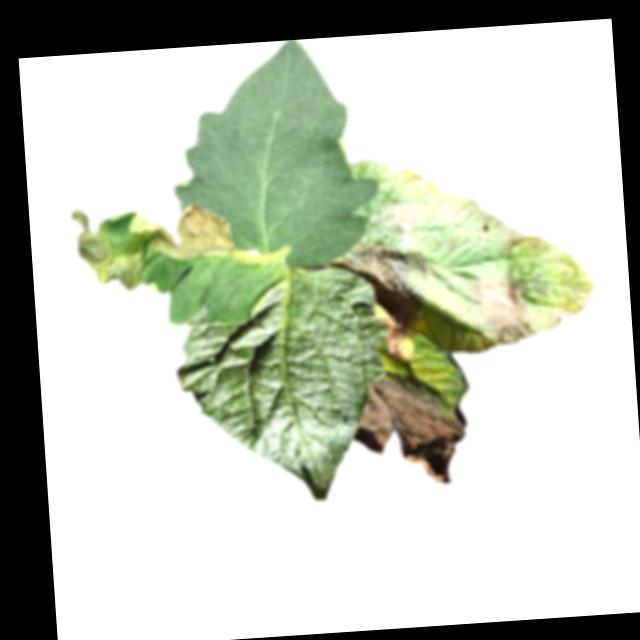Late_blight: (346, 366, 468, 490), (341, 241, 431, 329), (66, 205, 147, 295), (460, 270, 537, 349), (144, 202, 234, 262), (360, 197, 424, 246), (381, 322, 413, 367), (545, 301, 572, 331), (411, 173, 435, 192)
